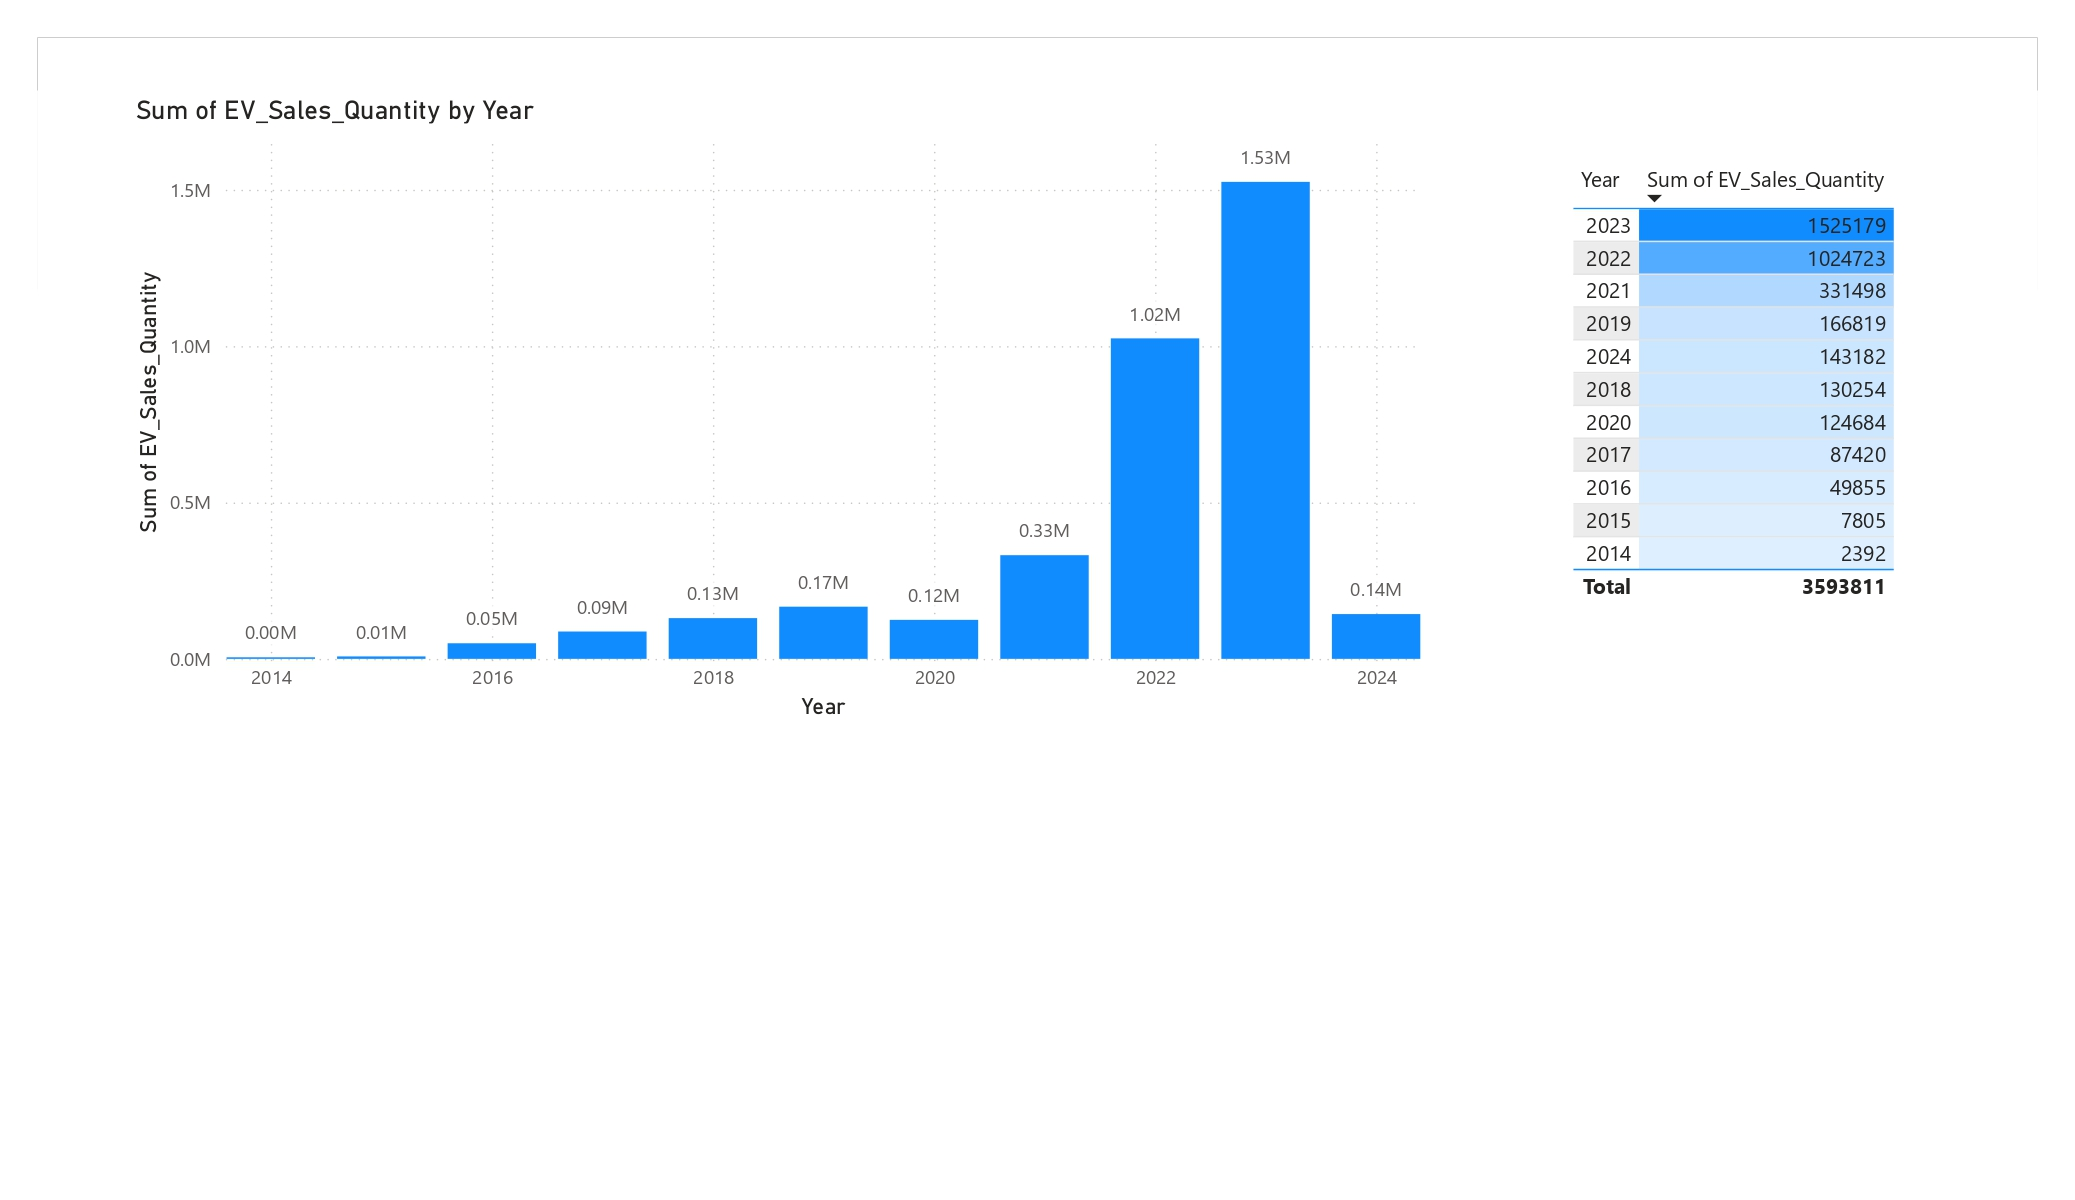

The dashboard page shown, as its layout file describes it:
{"tool":"powerbi","page":{"name":"Page 1","canvas":[1280,720],"ordinal":0},"visuals":[{"type":"lineStackedColumnComboChart","fields":{"Category":["ev.Year"],"Y":["Sum(ev.EV_Sales_Quantity)"]},"box":[58,36.4,831.6,404.2],"z":0},{"type":"tableEx","fields":{"Values":["ev.Year","Sum(ev.EV_Sales_Quantity)"]},"box":[977.3,76.2,303.1,381],"z":1000}]}

Visuals, with their boxes on the page's 1280x720 design canvas (x1, y1, x2, y2). These are canvas units, not pixel positions in the 2075x1200 screenshot, which may show the page scaled, cropped or inside an application window:
lineStackedColumnComboChart - ev.Year x Sum(ev.EV_Sales_Quantity): select_region(58, 36, 890, 441)
tableEx - ev.Year x Sum(ev.EV_Sales_Quantity): select_region(977, 76, 1280, 457)
